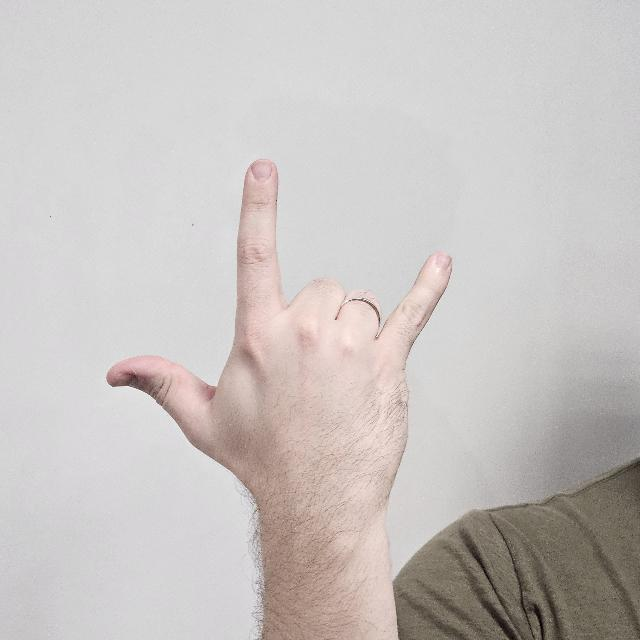Cima: (104, 157, 454, 517)
